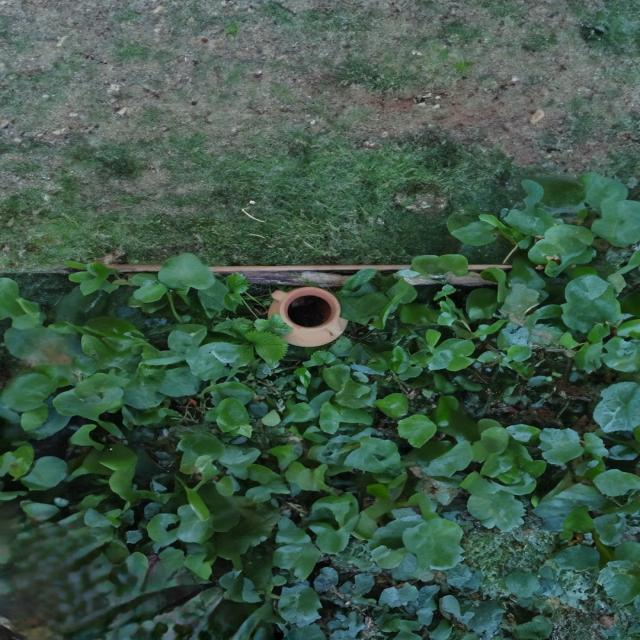Breeding Place: (0, 272, 640, 640), (244, 268, 365, 354)
